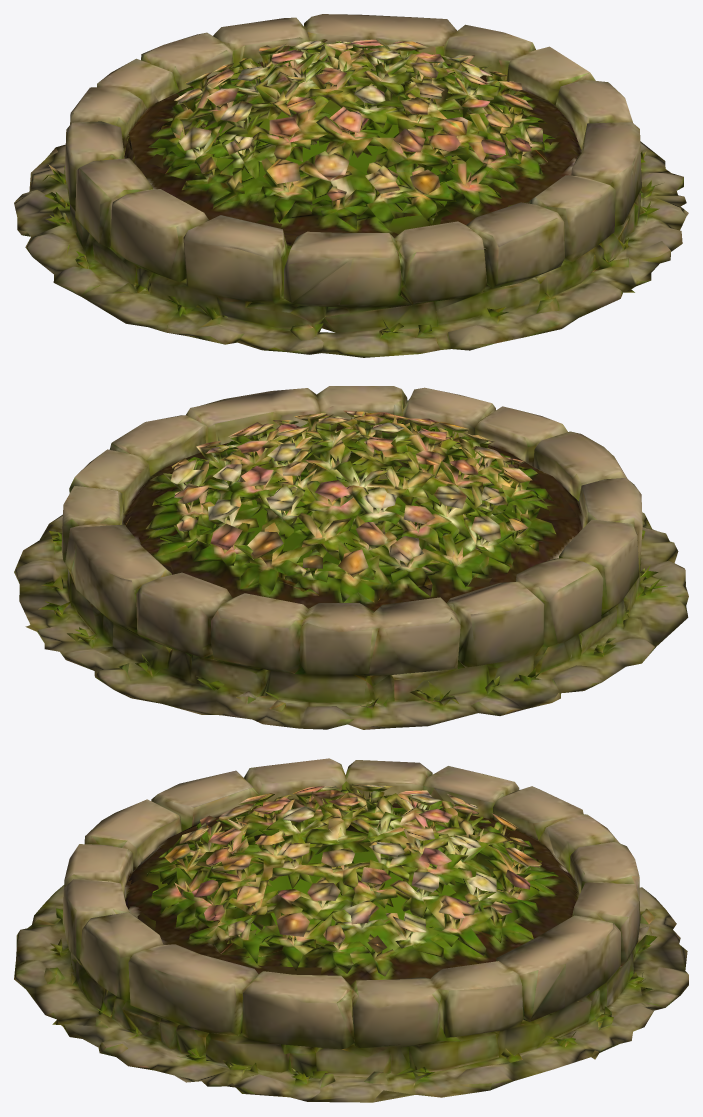
File: flowerbed-round.glb
3 renders of one model, top to bottom at view 1: azimuth 30°, elevation 25°; view 2: azimuth 150°, elevation 25°; view 3: azimuth 270°, elevation 25°, orthographic.
Visible parts, largest first — view 1: Mesh1.0; view 2: Mesh1.0; view 3: Mesh1.0.
Boxes of the visible parts, <box> form: Mesh1.0: <box>14,14,688,357</box>; Mesh1.0: <box>14,386,688,729</box>; Mesh1.0: <box>14,758,688,1102</box>.
Bounding box in the file's own units: 1.89 × 0.4621 × 1.89.
1 material, 1 textured.
